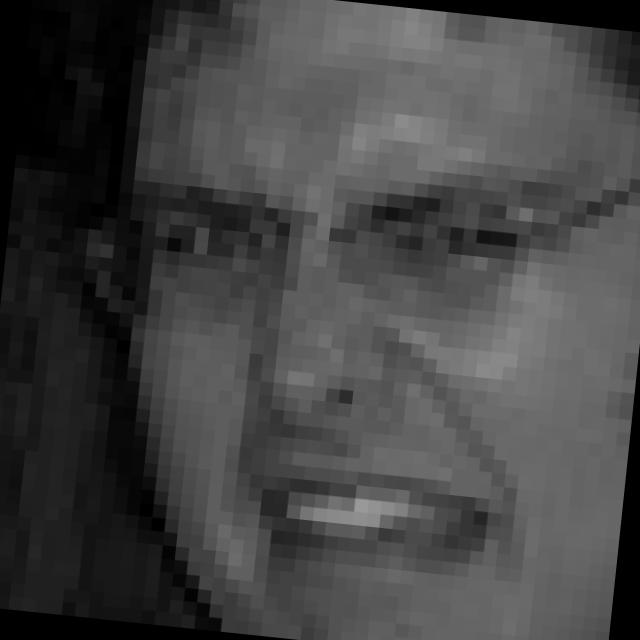disgust: (110, 132, 559, 615)
